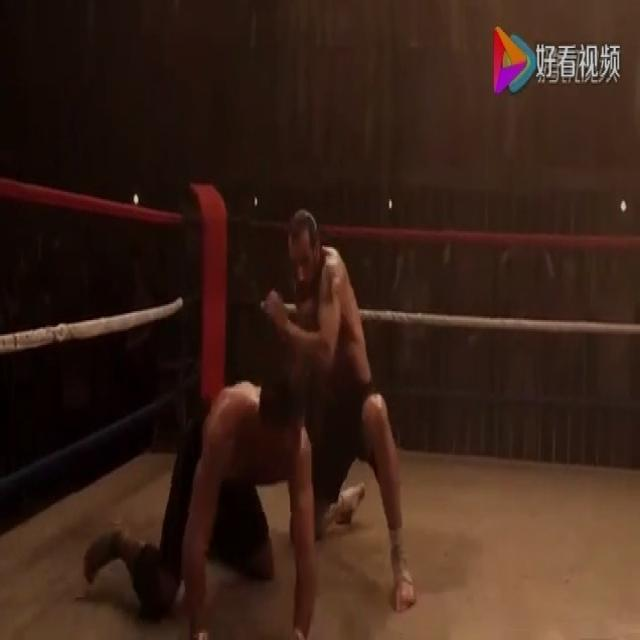fight: (80, 199, 415, 638)
